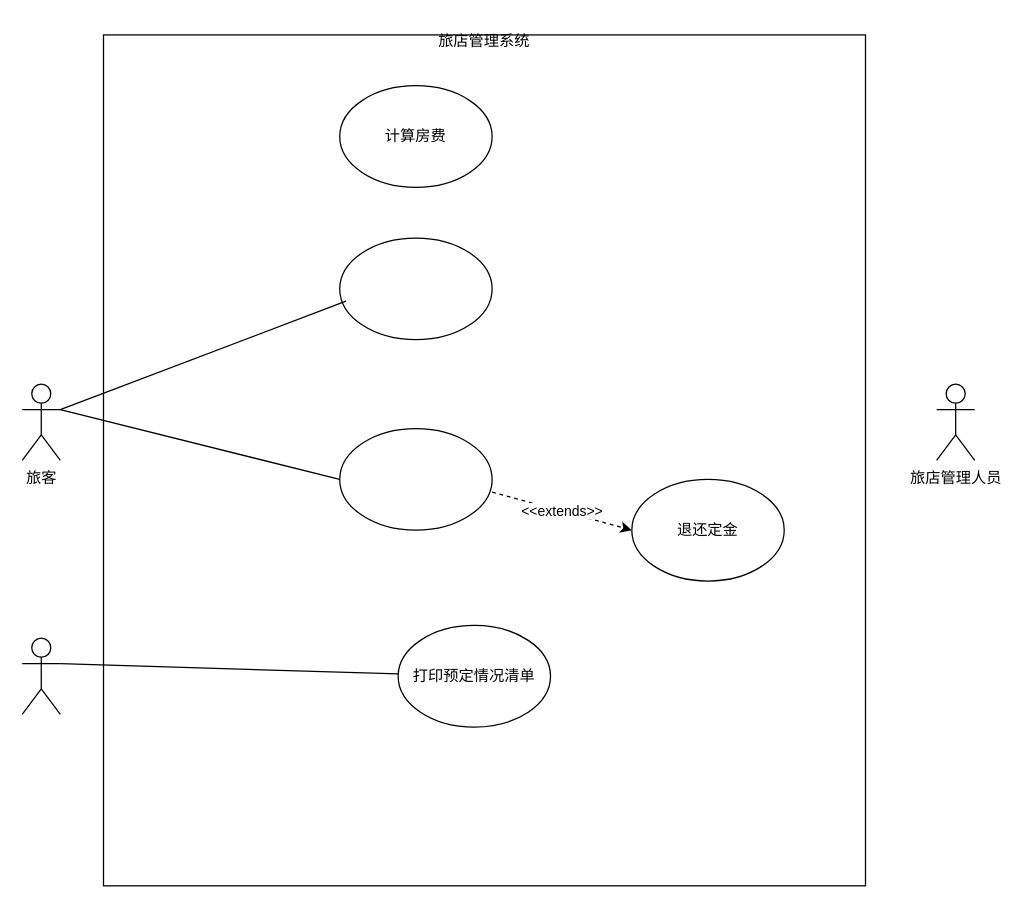
Some shapes in this 1024 by 908 pixel diagram are drawn without their labels. Each missing label, with the centre of its shape:
"取消预订" goes at (x=415, y=478).
"时间" goes at (x=40, y=675).
"预定房间" goes at (x=415, y=288).
